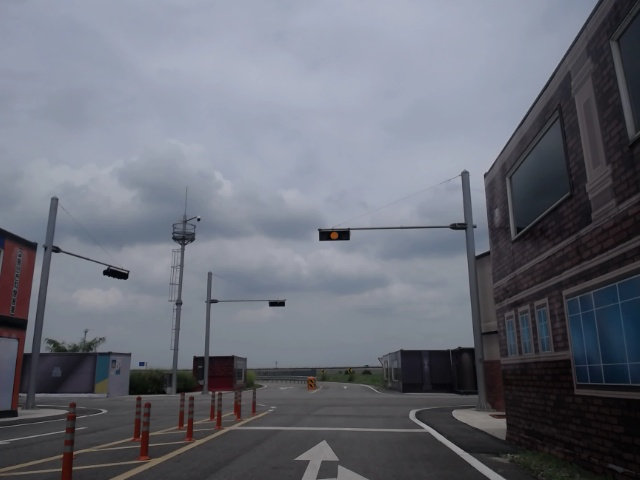orange_3: (318, 230, 351, 240)
